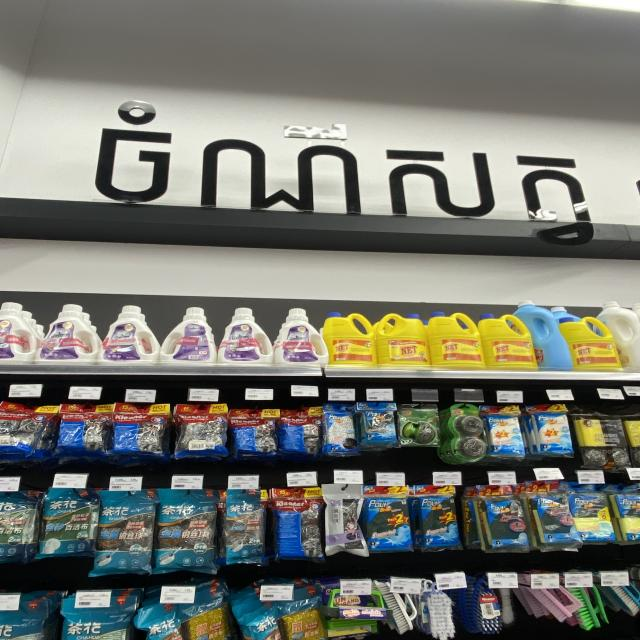Yolov11_80vkh: (79, 83, 604, 253)
